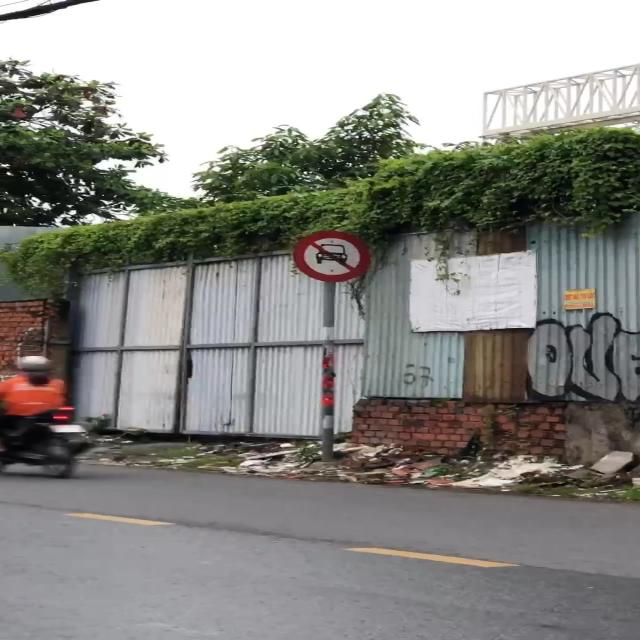Bien bao cam xe oto: (292, 229, 374, 282)
